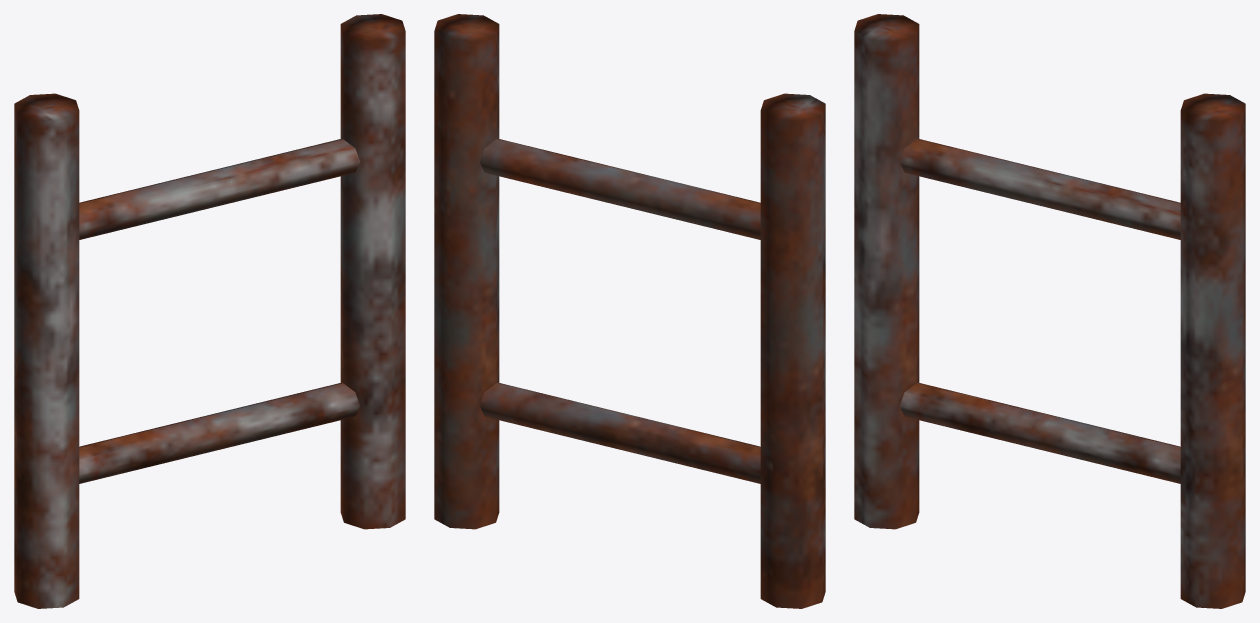
The model's file is LadderIronRust01.fbx.
3 renders of one model, left to right at view 1: azimuth 30°, elevation 25°; view 2: azimuth 150°, elevation 25°; view 3: azimuth 330°, elevation 25°, orthographic.
Parts seen in each view (by area): view 1: polySurface5, polySurface1, polySurface3, polySurface6; view 2: polySurface5, polySurface1, polySurface3, polySurface6; view 3: polySurface1, polySurface5, polySurface3, polySurface6.
Part boxes in pixels (x1,y1,x2,y2): polySurface5: (14,93,79,608); polySurface1: (340,14,405,529); polySurface3: (79,138,359,239); polySurface6: (79,382,359,483); polySurface5: (760,93,825,608); polySurface1: (434,14,499,529); polySurface3: (480,138,760,239); polySurface6: (480,382,760,483); polySurface1: (1180,93,1245,608); polySurface5: (854,14,919,529); polySurface3: (900,138,1180,239); polySurface6: (900,382,1180,483).
Bounding box in the file's own units: 0.8255 × 1 × 0.1255.
